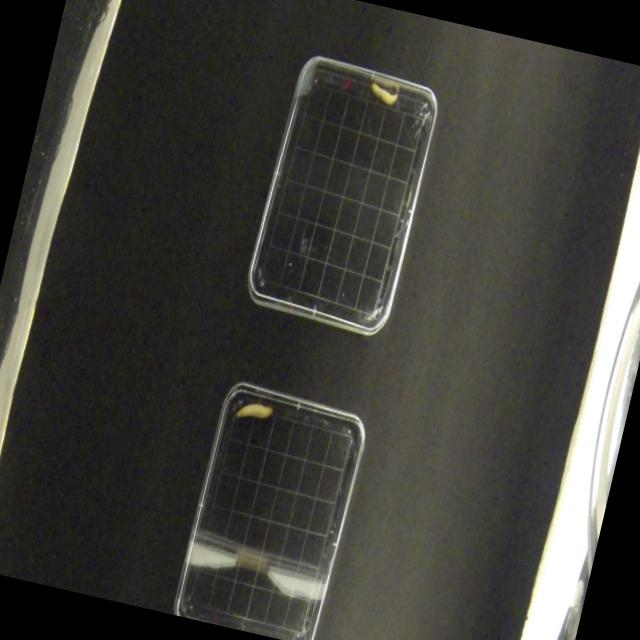larva: (233, 397, 274, 428), (366, 80, 400, 110)
